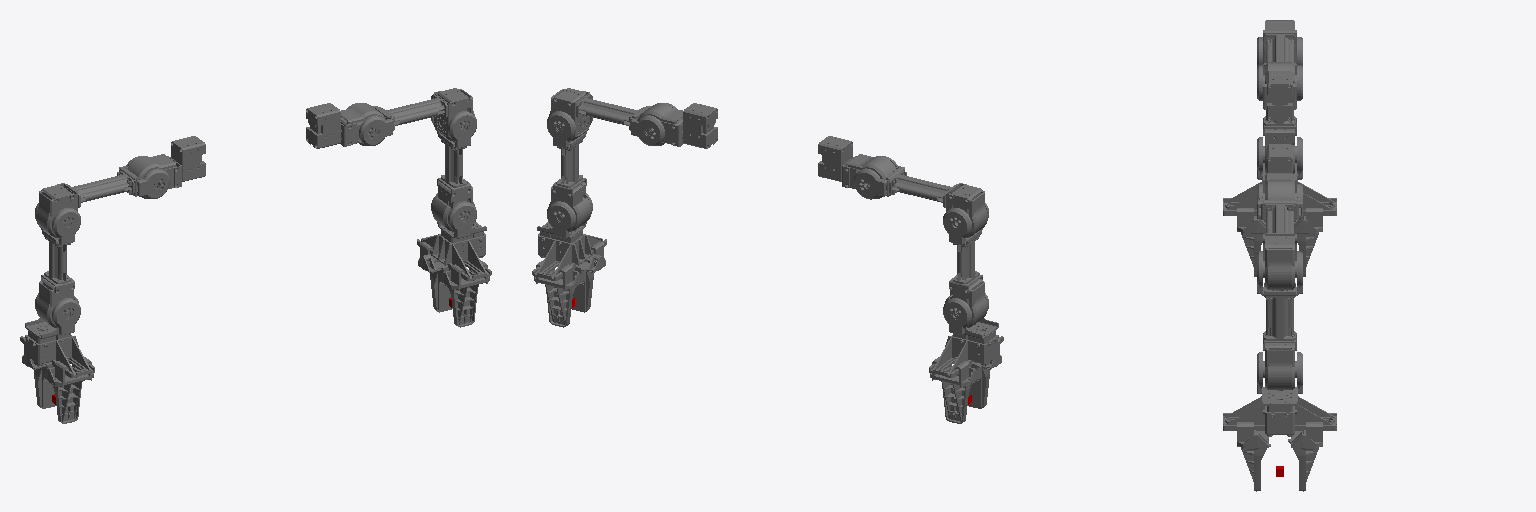
robot.urdf — marvin:
<robot name="marvin" version="1.0">
  <joint name="left_end_effector_joint" type="fixed">
    <origin rpy="-0.00000 0.00000 -0.00000" xyz="0.12600 -0.00000 0.00000"/>
    <parent link="left_link5"/>
    <child link="left_end_effector_link"/>
  </joint>
  <joint name="left_gripper" type="prismatic">
    <limit lower="-0.01000" upper="0.01900" effort="1" velocity="4.80000"/>
    <origin rpy="-0.00000 0.00000 -0.00000" xyz="0.08170 0.02100 0.00000"/>
    <parent link="left_link5"/>
    <child link="left_gripper_link"/>
    <axis xyz="0.00000 1.00000 0.00000"/>
  </joint>
  <joint name="left_gripper_sub" type="prismatic">
    <limit lower="-0.01000" upper="0.01900" effort="1" velocity="4.80000"/>
    <mimic multiplier="1.00000" offset="0.00000" joint="left_gripper"/>
    <origin rpy="-0.00000 0.00000 -0.00000" xyz="0.08170 -0.02100 0.00000"/>
    <parent link="left_link5"/>
    <child link="left_gripper_link_sub"/>
    <axis xyz="0.00000 -1.00000 0.00000"/>
  </joint>
  <joint name="left_joint1" type="revolute">
    <limit lower="-2.82743" upper="2.82743" effort="1" velocity="4.80000"/>
    <origin rpy="3.14159 1.57080 -0.00000" xyz="-0.09700 -0.00000 -0.01200"/>
    <parent link="marvin"/>
    <child link="left_link2"/>
    <axis xyz="0.00000 0.00000 1.00000"/>
  </joint>
  <joint name="left_joint2" type="revolute">
    <limit lower="-1.79071" upper="1.57080" effort="1" velocity="4.80000"/>
    <origin rpy="-0.00000 0.00000 -0.00000" xyz="-0.00000 -0.00000 0.05950"/>
    <parent link="left_link2"/>
    <child link="left_link3"/>
    <axis xyz="0.00000 1.00000 0.00000"/>
  </joint>
  <joint name="left_joint3" type="revolute">
    <limit lower="-0.94248" upper="1.38230" effort="1" velocity="4.80000"/>
    <origin rpy="-0.00000 0.00000 -0.00000" xyz="0.02400 -0.00000 0.12800"/>
    <parent link="left_link3"/>
    <child link="left_link4"/>
    <axis xyz="0.00000 1.00000 0.00000"/>
  </joint>
  <joint name="left_joint4" type="revolute">
    <limit lower="-1.79071" upper="2.04204" effort="1" velocity="4.80000"/>
    <origin rpy="-0.00000 0.00000 -0.00000" xyz="0.12400 -0.00000 0.00000"/>
    <parent link="left_link4"/>
    <child link="left_link5"/>
    <axis xyz="0.00000 1.00000 0.00000"/>
  </joint>
  <joint name="marvin_to_body" type="fixed">
    <origin rpy="0.00000 0.00000 0.00000" xyz="0.00000 0.00000 0.00000"/>
    <parent link="body"/>
    <child link="marvin"/>
  </joint>
  <joint name="right_end_effector_joint" type="fixed">
    <origin rpy="-0.00000 0.00000 0.00000" xyz="0.12600 0.00000 -0.00000"/>
    <parent link="right_link5"/>
    <child link="right_end_effector_link"/>
  </joint>
  <joint name="right_gripper" type="prismatic">
    <limit lower="-0.01000" upper="0.01900" effort="1" velocity="4.80000"/>
    <origin rpy="-0.00000 0.00000 0.00000" xyz="0.08170 0.02100 -0.00000"/>
    <parent link="right_link5"/>
    <child link="right_gripper_link"/>
    <axis xyz="0.00000 1.00000 0.00000"/>
  </joint>
  <joint name="right_gripper_sub" type="prismatic">
    <limit lower="-0.01000" upper="0.01900" effort="1" velocity="4.80000"/>
    <mimic multiplier="1.00000" offset="0.00000" joint="right_gripper"/>
    <origin rpy="-0.00000 0.00000 0.00000" xyz="0.08170 -0.02100 -0.00000"/>
    <parent link="right_link5"/>
    <child link="right_gripper_link_sub"/>
    <axis xyz="0.00000 -1.00000 0.00000"/>
  </joint>
  <joint name="right_joint1" type="revolute">
    <limit lower="-2.82743" upper="2.82743" effort="1" velocity="4.80000"/>
    <origin rpy="-0.00000 1.57080 -0.00000" xyz="0.09700 -0.00000 -0.01200"/>
    <parent link="marvin"/>
    <child link="right_link2"/>
    <axis xyz="0.00000 0.00000 1.00000"/>
  </joint>
  <joint name="right_joint2" type="revolute">
    <limit lower="-1.79071" upper="1.57080" effort="1" velocity="4.80000"/>
    <origin rpy="-0.00000 0.00000 0.00000" xyz="0.00000 0.00000 0.05950"/>
    <parent link="right_link2"/>
    <child link="right_link3"/>
    <axis xyz="0.00000 1.00000 0.00000"/>
  </joint>
  <joint name="right_joint3" type="revolute">
    <limit lower="-0.94248" upper="1.38230" effort="1" velocity="4.80000"/>
    <origin rpy="-0.00000 0.00000 0.00000" xyz="0.02400 0.00000 0.12800"/>
    <parent link="right_link3"/>
    <child link="right_link4"/>
    <axis xyz="0.00000 1.00000 0.00000"/>
  </joint>
  <joint name="right_joint4" type="revolute">
    <limit lower="-1.79071" upper="2.04204" effort="1" velocity="4.80000"/>
    <origin rpy="-0.00000 0.00000 0.00000" xyz="0.12400 0.00000 -0.00000"/>
    <parent link="right_link4"/>
    <child link="right_link5"/>
    <axis xyz="0.00000 1.00000 0.00000"/>
  </joint>
  <link name="body">
    <collision name="Cube">
      <origin rpy="0.00000 0.00000 0.00000" xyz="0.00000 0.00000 -0.22261"/>
      <geometry>
        <box size="0.16000 0.06000 0.60000"/>
      </geometry>
    </collision>
  </link>
  <link name="left_end_effector_link">
    <inertial>
      <inertia ixx="0.00100" ixy="0.00000" ixz="0.00000" iyy="0.00100" iyz="0.00000" izz="0.00100"/>
      <origin rpy="0.00000 0.00000 0.00000" xyz="0.00000 0.00000 0.00000"/>
      <mass value="0.00100"/>
    </inertial>
    <visual name="left_end_effector_link_visual">
      <origin rpy="-0.00000 0.00000 -0.00000" xyz="0.00000 -0.00000 0.00000"/>
      <material name="red"/>
      <geometry>
        <box size="0.01000 0.01000 0.01000"/>
      </geometry>
    </visual>
  </link>
  <link name="left_gripper_link">
    <collision name="left_gripper_link_collision">
      <origin rpy="-0.00000 -0.00000 -0.00000" xyz="0.00000 0.00000 -0.00000"/>
      <geometry>
        <mesh filename="package://marvin/meshes/stl/chain_link_grip_l.stl" scale="0.00100 0.00100 0.00100"/>
      </geometry>
    </collision>
    <inertial>
      <inertia ixx="0.00100" ixy="0.00000" ixz="0.00000" iyy="0.00100" iyz="0.00000" izz="0.00100"/>
      <origin rpy="0.00000 0.00000 0.00000" xyz="0.00000 0.00000 0.00000"/>
      <mass value="0.00100"/>
    </inertial>
    <visual name="left_gripper_link_visual">
      <origin rpy="-0.00000 -0.00000 -0.00000" xyz="0.00000 0.00000 -0.00000"/>
      <material name="grey"/>
      <geometry>
        <mesh filename="package://marvin/meshes/stl/chain_link_grip_l.stl" scale="0.00100 0.00100 0.00100"/>
      </geometry>
    </visual>
  </link>
  <link name="left_gripper_link_sub">
    <collision name="left_gripper_link_sub_collision">
      <origin rpy="-0.00000 -0.00000 -0.00000" xyz="-0.00000 0.00000 -0.00000"/>
      <geometry>
        <mesh filename="package://marvin/meshes/stl/chain_link_grip_r.stl" scale="0.00100 0.00100 0.00100"/>
      </geometry>
    </collision>
    <inertial>
      <inertia ixx="0.00100" ixy="0.00000" ixz="0.00000" iyy="0.00100" iyz="0.00000" izz="0.00100"/>
      <origin rpy="0.00000 0.00000 0.00000" xyz="0.00000 0.00000 0.00000"/>
      <mass value="0.00100"/>
    </inertial>
    <visual name="left_gripper_link_sub_visual">
      <origin rpy="-0.00000 -0.00000 -0.00000" xyz="-0.00000 0.00000 -0.00000"/>
      <material name="grey"/>
      <geometry>
        <mesh filename="package://marvin/meshes/stl/chain_link_grip_r.stl" scale="0.00100 0.00100 0.00100"/>
      </geometry>
    </visual>
  </link>
  <link name="left_link2">
    <collision name="left_link2_collision">
      <origin rpy="-0.00000 -0.00000 -0.00000" xyz="-0.00000 -0.00000 0.01900"/>
      <geometry>
        <mesh filename="package://marvin/meshes/stl/chain_link2.stl" scale="0.00100 0.00100 0.00100"/>
      </geometry>
    </collision>
    <inertial>
      <inertia ixx="0.00003" ixy="-0.00000" ixz="-0.00000" iyy="0.00003" iyz="0.00000" izz="0.00002"/>
      <origin rpy="0.00000 0.00000 0.00000" xyz="-0.00030 0.00054 0.04743"/>
      <mass value="0.09841"/>
    </inertial>
    <visual name="left_link2_visual">
      <origin rpy="-0.00000 -0.00000 -0.00000" xyz="-0.00000 -0.00000 0.01900"/>
      <material name="grey"/>
      <geometry>
        <mesh filename="package://marvin/meshes/stl/chain_link2.stl" scale="0.00100 0.00100 0.00100"/>
      </geometry>
    </visual>
  </link>
  <link name="left_link3">
    <collision name="left_link3_collision">
      <origin rpy="-0.00000 -0.00000 -0.00000" xyz="-0.00000 -0.00000 0.00000"/>
      <geometry>
        <mesh filename="package://marvin/meshes/stl/chain_link3.stl" scale="0.00100 0.00100 0.00100"/>
      </geometry>
    </collision>
    <inertial>
      <inertia ixx="0.00033" ixy="-0.00000" ixz="-0.00004" iyy="0.00034" iyz="-0.00000" izz="0.00006"/>
      <origin rpy="0.00000 0.00000 0.00000" xyz="0.01031 0.00038 0.10170"/>
      <mass value="0.13851"/>
    </inertial>
    <visual name="left_link3_visual">
      <origin rpy="-0.00000 -0.00000 -0.00000" xyz="-0.00000 -0.00000 0.00000"/>
      <material name="grey"/>
      <geometry>
        <mesh filename="package://marvin/meshes/stl/chain_link3.stl" scale="0.00100 0.00100 0.00100"/>
      </geometry>
    </visual>
  </link>
  <link name="left_link4">
    <collision name="left_link4_collision">
      <origin rpy="-0.00000 -0.00000 -0.00000" xyz="0.00000 -0.00000 0.00000"/>
      <geometry>
        <mesh filename="package://marvin/meshes/stl/chain_link4.stl" scale="0.00100 0.00100 0.00100"/>
      </geometry>
    </collision>
    <inertial>
      <inertia ixx="0.00003" ixy="-0.00000" ixz="-0.00000" iyy="0.00024" iyz="0.00000" izz="0.00025"/>
      <origin rpy="0.00000 0.00000 0.00000" xyz="0.09091 0.00039 0.00022"/>
      <mass value="0.13275"/>
    </inertial>
    <visual name="left_link4_visual">
      <origin rpy="-0.00000 -0.00000 -0.00000" xyz="0.00000 -0.00000 0.00000"/>
      <material name="grey"/>
      <geometry>
        <mesh filename="package://marvin/meshes/stl/chain_link4.stl" scale="0.00100 0.00100 0.00100"/>
      </geometry>
    </visual>
  </link>
  <link name="left_link5">
    <collision name="left_link5_collision">
      <origin rpy="-0.00000 -0.00000 -0.00000" xyz="-0.00000 -0.00000 0.00000"/>
      <geometry>
        <mesh filename="package://marvin/meshes/stl/chain_link5.stl" scale="0.00100 0.00100 0.00100"/>
      </geometry>
    </collision>
    <inertial>
      <inertia ixx="0.00008" ixy="0.00000" ixz="-0.00000" iyy="0.00008" iyz="0.00000" izz="0.00009"/>
      <origin rpy="0.00000 0.00000 0.00000" xyz="0.04421 0.00000 0.00891"/>
      <mass value="0.14328"/>
    </inertial>
    <visual name="left_link5_visual">
      <origin rpy="-0.00000 -0.00000 -0.00000" xyz="-0.00000 -0.00000 0.00000"/>
      <material name="grey"/>
      <geometry>
        <mesh filename="package://marvin/meshes/stl/chain_link5.stl" scale="0.00100 0.00100 0.00100"/>
      </geometry>
    </visual>
  </link>
  <link name="marvin">
    <collision name="left_base_link_collision">
      <origin rpy="3.14159 1.57080 -0.00000" xyz="-0.08000 0.00000 0.00000"/>
      <geometry>
        <mesh filename="package://marvin/meshes/stl/chain_link1.stl" scale="0.00100 0.00100 0.00100"/>
      </geometry>
    </collision>
    <collision name="right_base_link_collision">
      <origin rpy="-0.00000 1.57080 -0.00000" xyz="0.08000 -0.00000 0.00000"/>
      <geometry>
        <mesh filename="package://marvin/meshes/stl/chain_link1.stl" scale="0.00100 0.00100 0.00100"/>
      </geometry>
    </collision>
    <inertial>
      <inertia ixx="0.00003" ixy="0.00000" ixz="-0.00000" iyy="0.00004" iyz="0.00000" izz="0.00004"/>
      <origin rpy="0.00000 0.00000 0.00000" xyz="0.00000 -0.00000 -0.00031"/>
      <mass value="0.15824"/>
    </inertial>
    <visual name="left_base_link_visual">
      <origin rpy="3.14159 1.57080 -0.00000" xyz="-0.08000 0.00000 0.00000"/>
      <material name="grey"/>
      <geometry>
        <mesh filename="package://marvin/meshes/stl/chain_link1.stl" scale="0.00100 0.00100 0.00100"/>
      </geometry>
    </visual>
    <visual name="right_base_link_visual">
      <origin rpy="-0.00000 1.57080 -0.00000" xyz="0.08000 -0.00000 0.00000"/>
      <material name="grey"/>
      <geometry>
        <mesh filename="package://marvin/meshes/stl/chain_link1.stl" scale="0.00100 0.00100 0.00100"/>
      </geometry>
    </visual>
  </link>
  <link name="right_end_effector_link">
    <inertial>
      <inertia ixx="0.00100" ixy="0.00000" ixz="0.00000" iyy="0.00100" iyz="0.00000" izz="0.00100"/>
      <origin rpy="0.00000 0.00000 0.00000" xyz="-0.00000 0.00000 0.00000"/>
      <mass value="0.00100"/>
    </inertial>
    <visual name="right_end_effector_link_visual">
      <origin rpy="-0.00000 0.00000 0.00000" xyz="0.00000 -0.00000 0.00000"/>
      <material name="red"/>
      <geometry>
        <box size="0.01000 0.01000 0.01000"/>
      </geometry>
    </visual>
  </link>
  <link name="right_gripper_link">
    <collision name="right_gripper_link_collision">
      <origin rpy="-0.00000 0.00000 0.00000" xyz="0.00000 0.00000 0.00000"/>
      <geometry>
        <mesh filename="package://marvin/meshes/stl/chain_link_grip_l.stl" scale="0.00100 0.00100 0.00100"/>
      </geometry>
    </collision>
    <inertial>
      <inertia ixx="0.00100" ixy="0.00000" ixz="0.00000" iyy="0.00100" iyz="0.00000" izz="0.00100"/>
      <origin rpy="0.00000 0.00000 0.00000" xyz="-0.00000 0.00000 0.00000"/>
      <mass value="0.00100"/>
    </inertial>
    <visual name="right_gripper_link_visual">
      <origin rpy="-0.00000 0.00000 0.00000" xyz="0.00000 0.00000 0.00000"/>
      <material name="grey"/>
      <geometry>
        <mesh filename="package://marvin/meshes/stl/chain_link_grip_l.stl" scale="0.00100 0.00100 0.00100"/>
      </geometry>
    </visual>
  </link>
  <link name="right_gripper_link_sub">
    <collision name="right_gripper_link_sub_collision">
      <origin rpy="-0.00000 0.00000 0.00000" xyz="0.00000 -0.00000 0.00000"/>
      <geometry>
        <mesh filename="package://marvin/meshes/stl/chain_link_grip_r.stl" scale="0.00100 0.00100 0.00100"/>
      </geometry>
    </collision>
    <inertial>
      <inertia ixx="0.00100" ixy="0.00000" ixz="0.00000" iyy="0.00100" iyz="0.00000" izz="0.00100"/>
      <origin rpy="0.00000 0.00000 0.00000" xyz="-0.00000 0.00000 0.00000"/>
      <mass value="0.00100"/>
    </inertial>
    <visual name="right_gripper_link_sub_visual">
      <origin rpy="-0.00000 0.00000 0.00000" xyz="0.00000 -0.00000 0.00000"/>
      <material name="grey"/>
      <geometry>
        <mesh filename="package://marvin/meshes/stl/chain_link_grip_r.stl" scale="0.00100 0.00100 0.00100"/>
      </geometry>
    </visual>
  </link>
  <link name="right_link2">
    <collision name="right_link2_collision">
      <origin rpy="-0.00000 0.00000 0.00000" xyz="0.00000 -0.00000 0.01900"/>
      <geometry>
        <mesh filename="package://marvin/meshes/stl/chain_link2.stl" scale="0.00100 0.00100 0.00100"/>
      </geometry>
    </collision>
    <inertial>
      <inertia ixx="0.00003" ixy="-0.00000" ixz="-0.00000" iyy="0.00003" iyz="0.00000" izz="0.00002"/>
      <origin rpy="0.00000 0.00000 0.00000" xyz="-0.00030 0.00054 0.04743"/>
      <mass value="0.09841"/>
    </inertial>
    <visual name="right_link2_visual">
      <origin rpy="-0.00000 0.00000 0.00000" xyz="0.00000 -0.00000 0.01900"/>
      <material name="grey"/>
      <geometry>
        <mesh filename="package://marvin/meshes/stl/chain_link2.stl" scale="0.00100 0.00100 0.00100"/>
      </geometry>
    </visual>
  </link>
  <link name="right_link3">
    <collision name="right_link3_collision">
      <origin rpy="-0.00000 0.00000 0.00000" xyz="0.00000 0.00000 0.00000"/>
      <geometry>
        <mesh filename="package://marvin/meshes/stl/chain_link3.stl" scale="0.00100 0.00100 0.00100"/>
      </geometry>
    </collision>
    <inertial>
      <inertia ixx="0.00033" ixy="-0.00000" ixz="-0.00004" iyy="0.00034" iyz="-0.00000" izz="0.00006"/>
      <origin rpy="0.00000 0.00000 0.00000" xyz="0.01031 0.00038 0.10170"/>
      <mass value="0.13851"/>
    </inertial>
    <visual name="right_link3_visual">
      <origin rpy="-0.00000 0.00000 0.00000" xyz="0.00000 0.00000 0.00000"/>
      <material name="grey"/>
      <geometry>
        <mesh filename="package://marvin/meshes/stl/chain_link3.stl" scale="0.00100 0.00100 0.00100"/>
      </geometry>
    </visual>
  </link>
  <link name="right_link4">
    <collision name="right_link4_collision">
      <origin rpy="-0.00000 0.00000 0.00000" xyz="-0.00000 0.00000 0.00000"/>
      <geometry>
        <mesh filename="package://marvin/meshes/stl/chain_link4.stl" scale="0.00100 0.00100 0.00100"/>
      </geometry>
    </collision>
    <inertial>
      <inertia ixx="0.00003" ixy="-0.00000" ixz="-0.00000" iyy="0.00024" iyz="0.00000" izz="0.00025"/>
      <origin rpy="0.00000 0.00000 0.00000" xyz="0.09091 0.00039 0.00022"/>
      <mass value="0.13275"/>
    </inertial>
    <visual name="right_link4_visual">
      <origin rpy="-0.00000 0.00000 0.00000" xyz="-0.00000 0.00000 0.00000"/>
      <material name="grey"/>
      <geometry>
        <mesh filename="package://marvin/meshes/stl/chain_link4.stl" scale="0.00100 0.00100 0.00100"/>
      </geometry>
    </visual>
  </link>
  <link name="right_link5">
    <collision name="right_link5_collision">
      <origin rpy="-0.00000 0.00000 0.00000" xyz="0.00000 0.00000 0.00000"/>
      <geometry>
        <mesh filename="package://marvin/meshes/stl/chain_link5.stl" scale="0.00100 0.00100 0.00100"/>
      </geometry>
    </collision>
    <inertial>
      <inertia ixx="0.00008" ixy="0.00000" ixz="-0.00000" iyy="0.00008" iyz="0.00000" izz="0.00009"/>
      <origin rpy="0.00000 0.00000 0.00000" xyz="0.04421 0.00000 0.00891"/>
      <mass value="0.14328"/>
    </inertial>
    <visual name="right_link5_visual">
      <origin rpy="-0.00000 0.00000 0.00000" xyz="0.00000 0.00000 0.00000"/>
      <material name="grey"/>
      <geometry>
        <mesh filename="package://marvin/meshes/stl/chain_link5.stl" scale="0.00100 0.00100 0.00100"/>
      </geometry>
    </visual>
  </link>
  <material name="grey">
    <color rgba="0.49804 0.49804 0.49804 1.00000"/>
  </material>
  <material name="red">
    <color rgba="0.80000 0.00000 0.00000 1.00000"/>
  </material>
</robot>

--- Facts derived from the render (not from the file) ---
Views: 3 orthographic renders of the robot side by side, from view 1: azimuth 30°, elevation 25°; view 2: azimuth 150°, elevation 25°; view 3: azimuth 270°, elevation 25°.
Robot: marvin — 16 links, 15 joints (8 revolute, 4 prismatic, 3 fixed); root link body; default pose: every joint at zero.
Visible links, largest first — view 1: left_link3, left_link5, right_link5, right_link3, left_link4, right_link4, marvin, right_gripper_link_sub, left_gripper_link, right_gripper_link, left_link2, right_link2 (+1 smaller); view 2: left_link3, left_link5, right_link5, right_link3, left_link4, right_link4, marvin, right_gripper_link, left_gripper_link_sub, right_gripper_link_sub, left_link2, right_link2 (+1 smaller); view 3: right_link5, right_link4, right_link3, marvin, left_link5, left_link3, left_link4, right_gripper_link, right_gripper_link_sub, left_gripper_link, left_gripper_link_sub, right_link2 (+1 smaller).
Link boxes in pixels (x1,y1,x2,y2): left_link3: (36, 156, 169, 237); left_link5: (20, 293, 94, 377); right_link5: (417, 193, 491, 280); right_link3: (347, 88, 474, 145); left_link4: (35, 203, 80, 327); right_link4: (431, 111, 476, 231); marvin: (171, 103, 340, 181); right_gripper_link_sub: (439, 260, 489, 327); left_gripper_link: (43, 357, 93, 423); right_gripper_link: (418, 242, 452, 312); left_link2: (128, 154, 181, 198); right_link2: (340, 103, 385, 146); left_link3: (854, 156, 987, 237); left_link5: (929, 293, 1003, 377); right_link5: (532, 193, 606, 280); right_link3: (549, 88, 676, 145); left_link4: (943, 203, 988, 327); right_link4: (547, 111, 592, 231); marvin: (683, 103, 852, 181); right_gripper_link: (534, 260, 584, 327); left_gripper_link_sub: (930, 357, 980, 423); right_gripper_link_sub: (571, 242, 605, 312); left_link2: (842, 154, 895, 198); right_link2: (638, 103, 683, 146); right_link5: (1223, 352, 1336, 436); right_link4: (1257, 251, 1302, 389); right_link3: (1257, 184, 1302, 289); marvin: (1267, 71, 1292, 172); left_link5: (1223, 137, 1336, 215); left_link3: (1257, 20, 1302, 100); left_link4: (1257, 37, 1302, 173); right_gripper_link: (1288, 422, 1322, 491); right_gripper_link_sub: (1237, 422, 1270, 491); left_gripper_link: (1237, 208, 1265, 276); left_gripper_link_sub: (1294, 208, 1322, 276); right_link2: (1263, 173, 1296, 207).
Bounding box of the posed robot: 0.6485 × 0.1286 × 0.33 m (x, y, z).
Meshes: 7 distinct files referenced, 14 mesh visuals loaded (7 binary STL).
